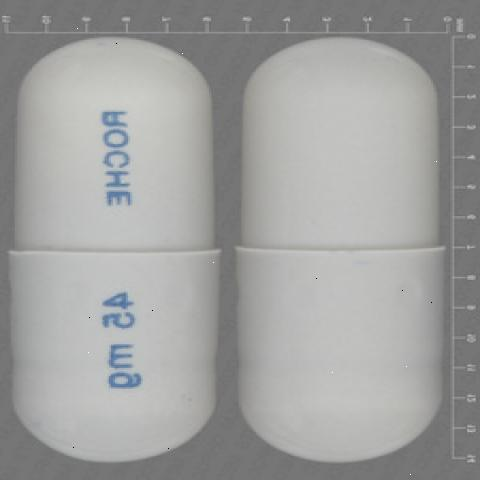Pill: (223, 24, 464, 468), (8, 19, 230, 473)
